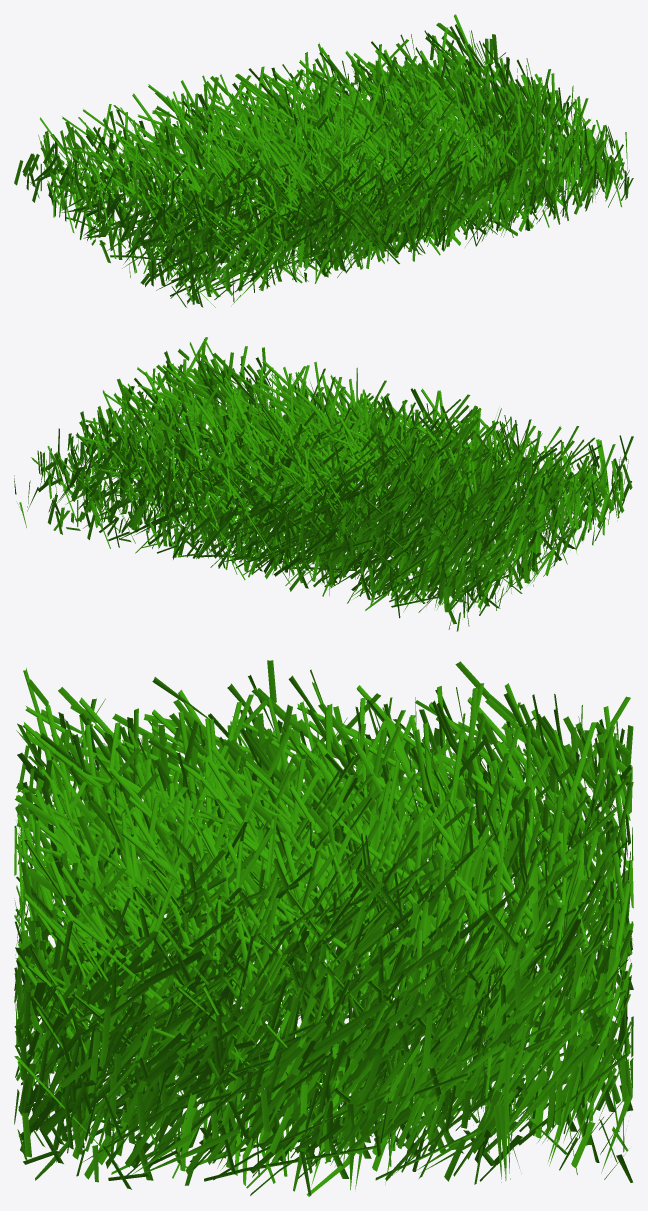
File: grass.fbx
The picture shows the model from 3 angles, top to bottom: view 1: azimuth 30°, elevation 25°; view 2: azimuth 150°, elevation 25°; view 3: azimuth 270°, elevation 25°; orthographic projection. The views are drawn at different scales.
Visible parts, largest first — view 1: weed14; view 2: weed14; view 3: weed14.
Part boxes in pixels (box(x1,y1,x2,y2)): weed14: box(14, 14, 633, 307); weed14: box(14, 337, 633, 631); weed14: box(14, 660, 633, 1196).
Bounding box in the file's own units: 98.4 × 15.27 × 63.63.
